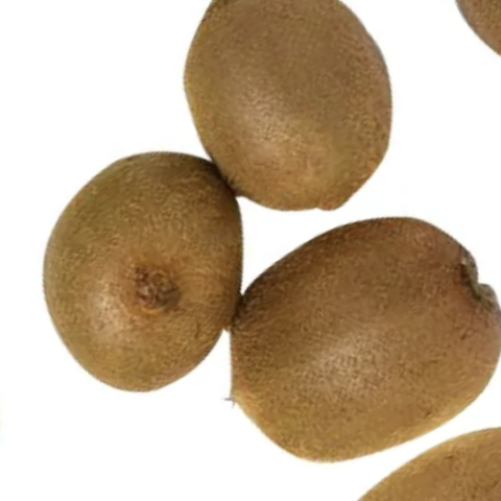kiwi: (159, 155, 501, 501), (0, 90, 323, 443), (144, 0, 464, 261)
